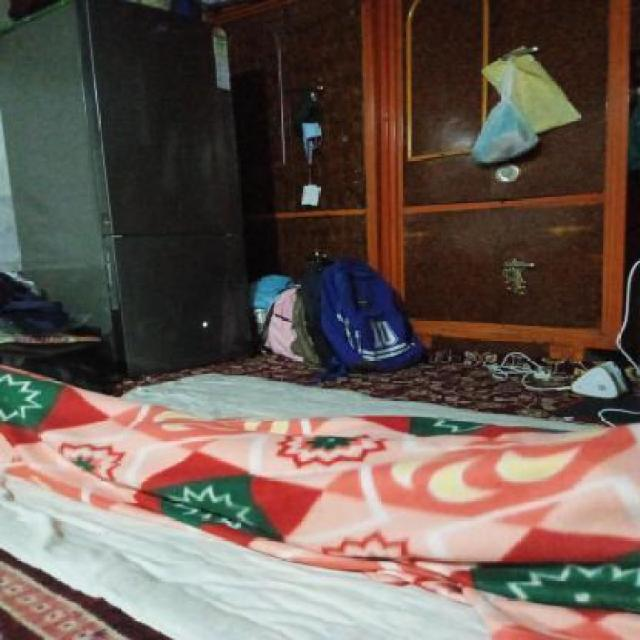backpack: (306, 252, 431, 377)
